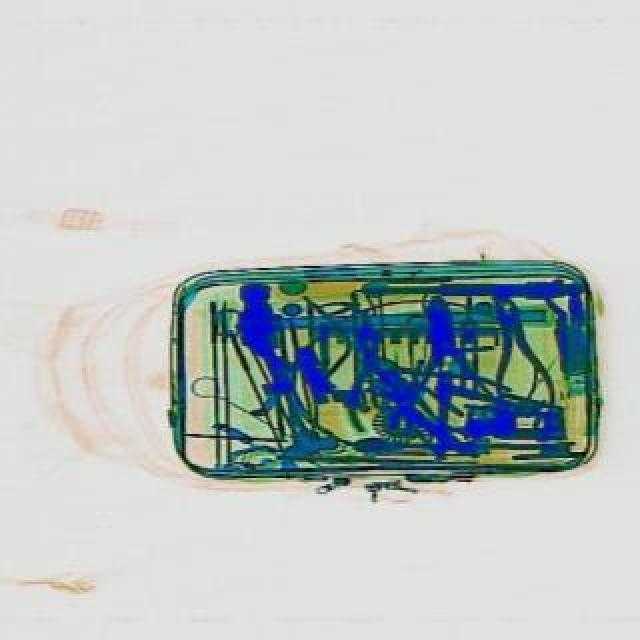wrench: (392, 292, 496, 428), (326, 306, 418, 434), (470, 286, 558, 416)
